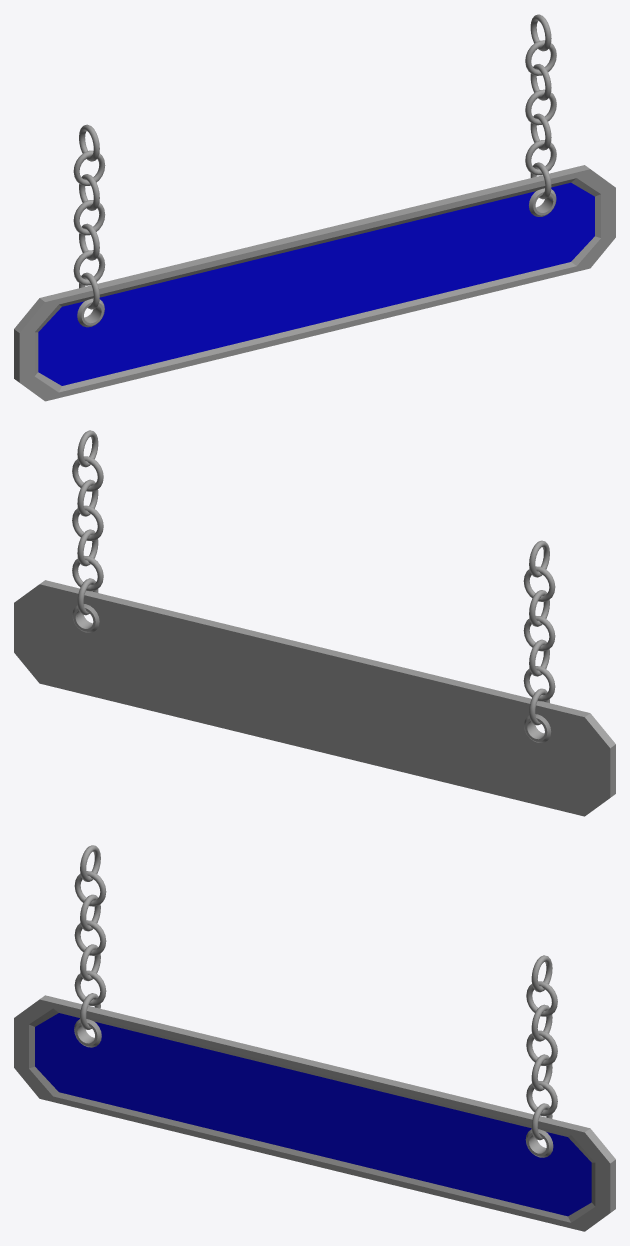
The model's file is SM_Title.fbx.
The picture shows the model from 3 angles, top to bottom: view 1: azimuth 30°, elevation 25°; view 2: azimuth 150°, elevation 25°; view 3: azimuth 330°, elevation 25°; orthographic projection.
Visible parts, largest first — view 1: pTorus11; view 2: pTorus11; view 3: pTorus11.
Boxes of the visible parts, <box> form: pTorus11: <box>14,14,615,401</box>; pTorus11: <box>14,430,615,816</box>; pTorus11: <box>14,845,615,1231</box>.
Size of the model in its own units: 29.84 by 12.51 by 1.54.
